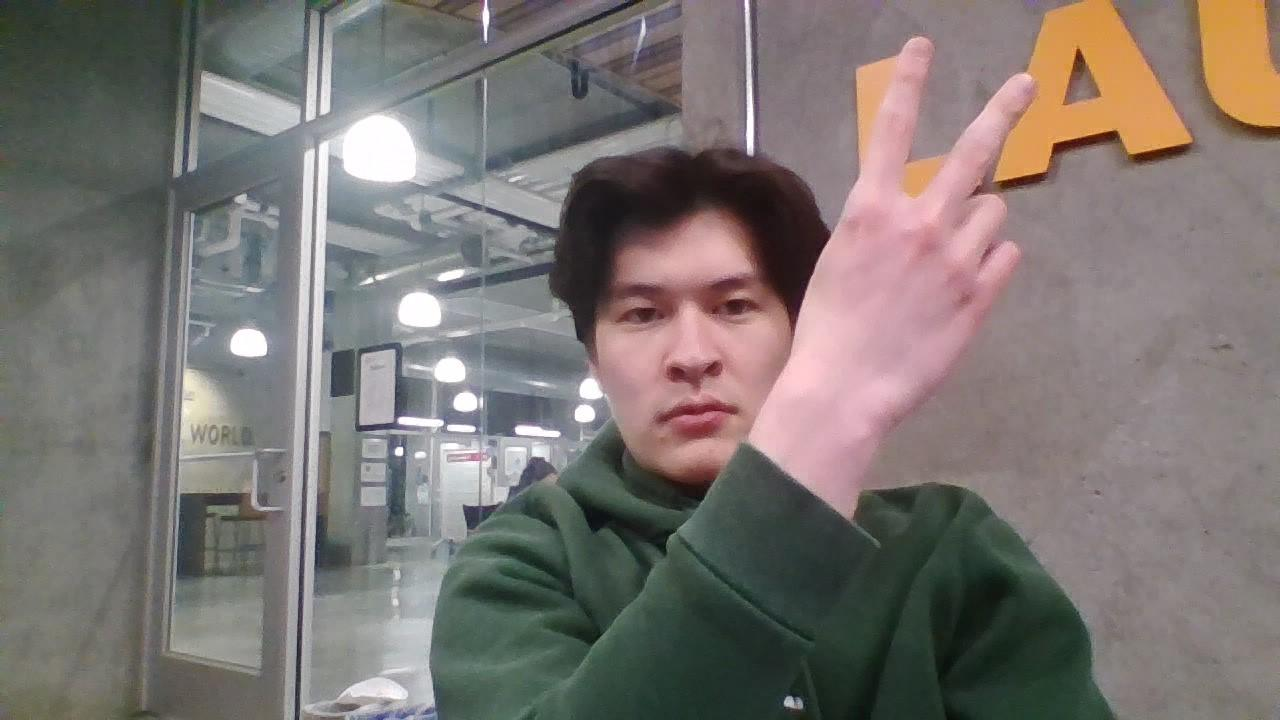peace: (793, 36, 1038, 401)
